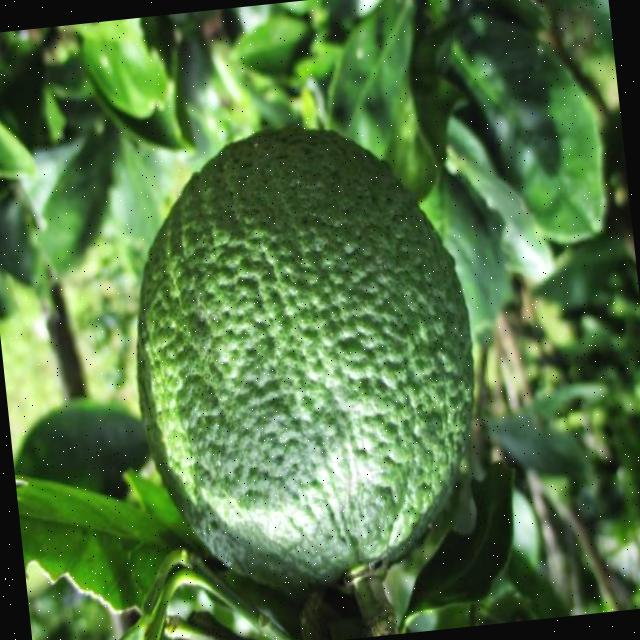Unripe: (114, 114, 493, 600)
